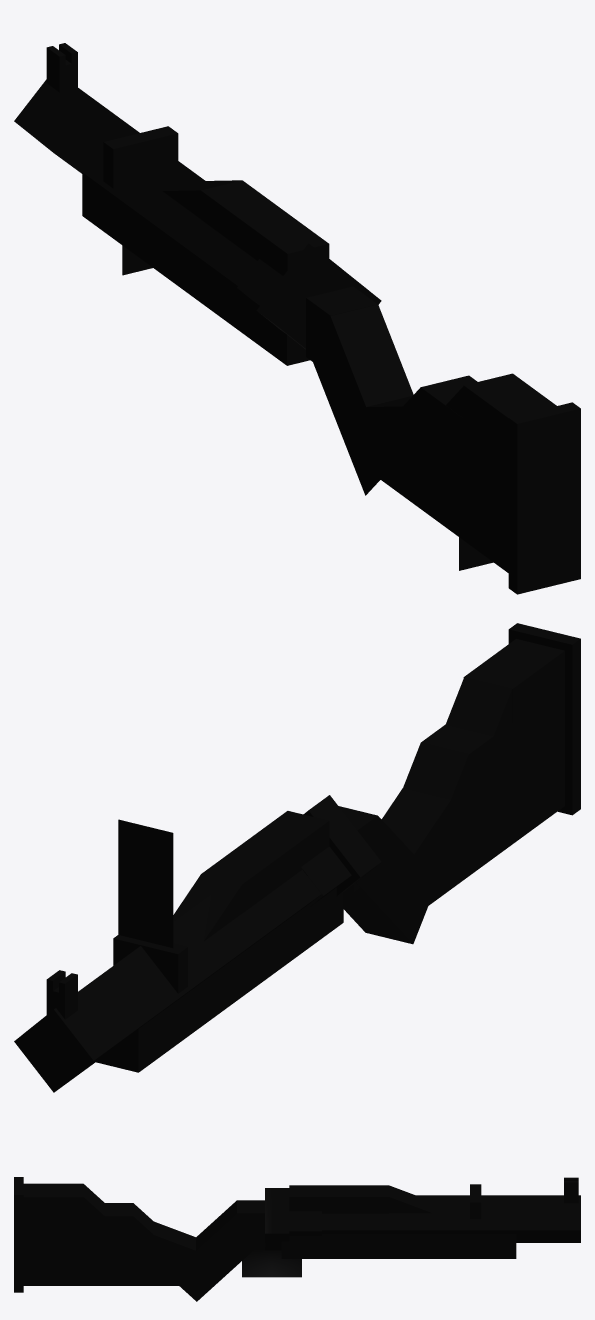
Rendered from jeg_grenade_launcher.glb.
The picture shows the model from 3 angles, top to bottom: view 1: azimuth 30°, elevation 25°; view 2: azimuth 150°, elevation 25°; view 3: azimuth 270°, elevation 25°; orthographic projection. The views are drawn at different scales.
Parts seen in each view (by area): view 1: Gun; view 2: Gun; view 3: Gun.
Part boxes in pixels (<box>): Gun: <box>14,43,580,594</box>; Gun: <box>14,623,580,1092</box>; Gun: <box>14,1177,580,1301</box>.
Size of the model in its own units: 0.1061 by 0.2904 by 0.8752.
Materials: 1 (1 with a texture image).
